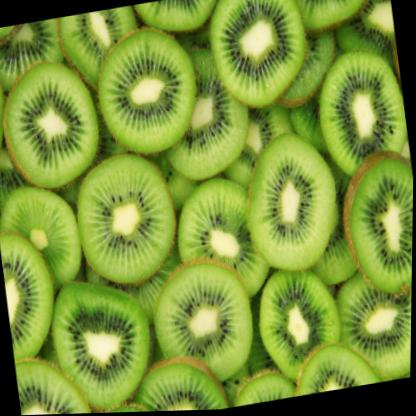kiwi: (39, 265, 163, 415), (66, 145, 185, 292), (0, 50, 114, 199), (143, 251, 263, 391), (84, 24, 203, 165), (235, 130, 345, 282), (307, 37, 414, 187), (246, 262, 359, 396), (325, 145, 414, 312), (201, 0, 317, 120), (328, 256, 413, 387), (0, 223, 65, 373), (13, 344, 96, 416)
